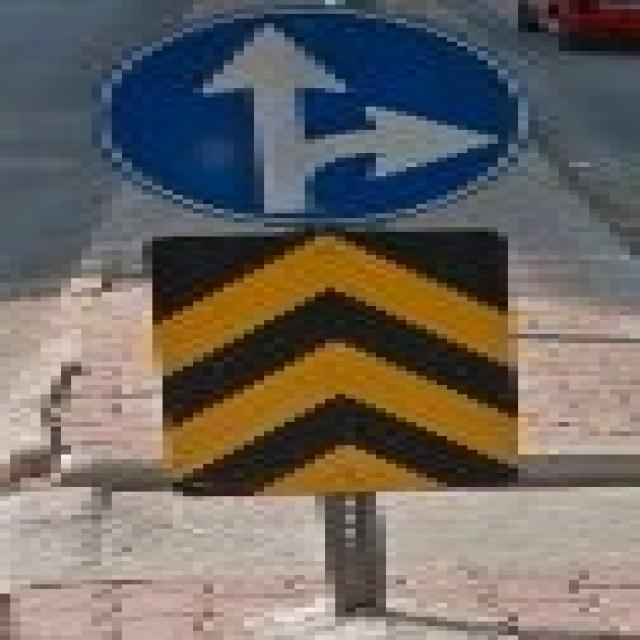Straight or Right: (118, 15, 514, 219)
